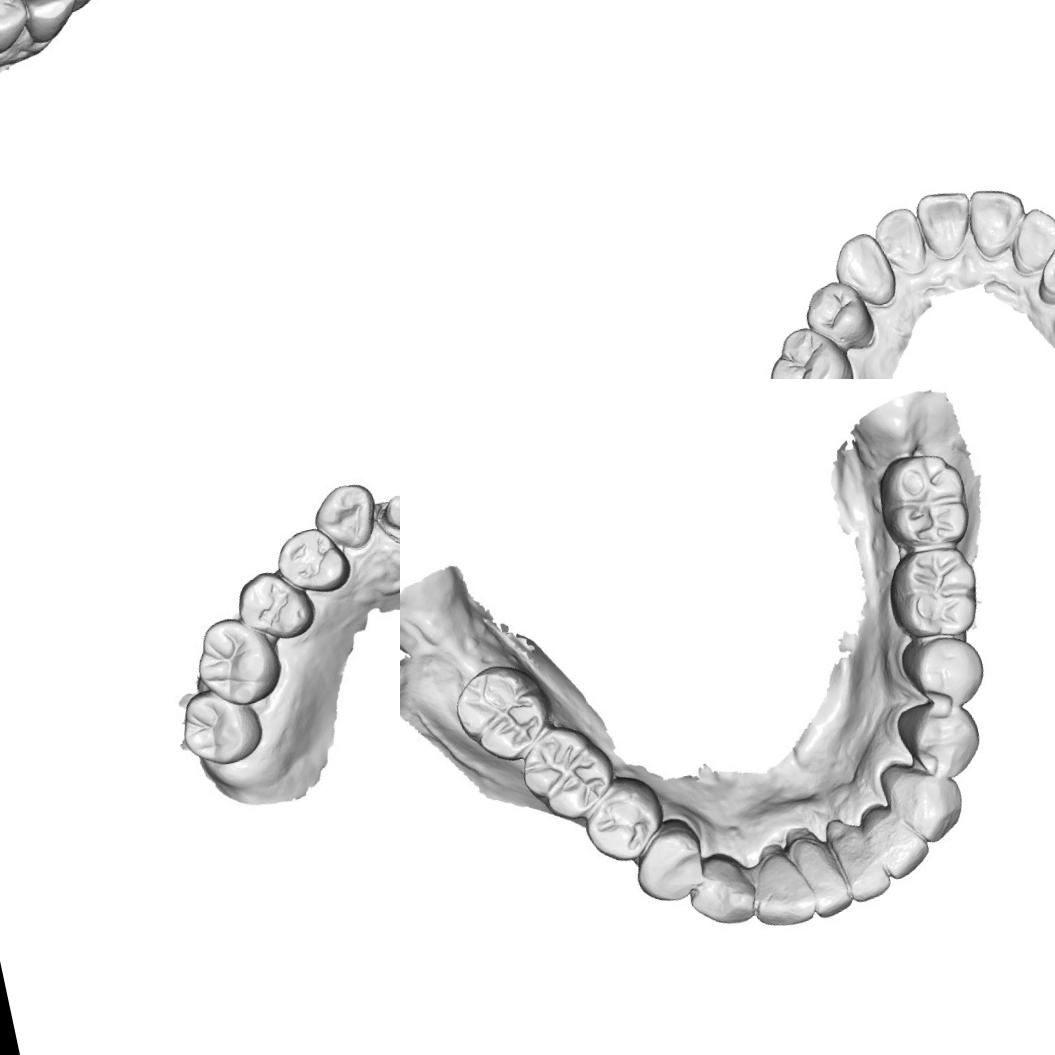canine: (877, 752, 968, 844), (682, 840, 763, 932), (826, 226, 902, 316), (308, 478, 384, 560), (17, 0, 84, 48), (1029, 229, 1055, 304)
crown: (377, 490, 400, 543)
incisor: (746, 835, 823, 936), (781, 819, 852, 922), (862, 795, 940, 886), (825, 810, 896, 906), (912, 185, 979, 268), (964, 179, 1032, 259), (868, 201, 930, 281), (1007, 203, 1055, 274), (49, 0, 112, 14)
molar: (880, 533, 994, 646), (870, 440, 980, 556), (516, 718, 619, 827), (446, 657, 552, 761), (186, 609, 287, 714), (174, 679, 270, 773), (759, 317, 863, 379)
premolar: (575, 773, 667, 868), (626, 811, 717, 906), (892, 692, 985, 784), (898, 625, 992, 716), (230, 562, 319, 648), (798, 273, 880, 358), (271, 520, 355, 602), (0, 0, 33, 59)
